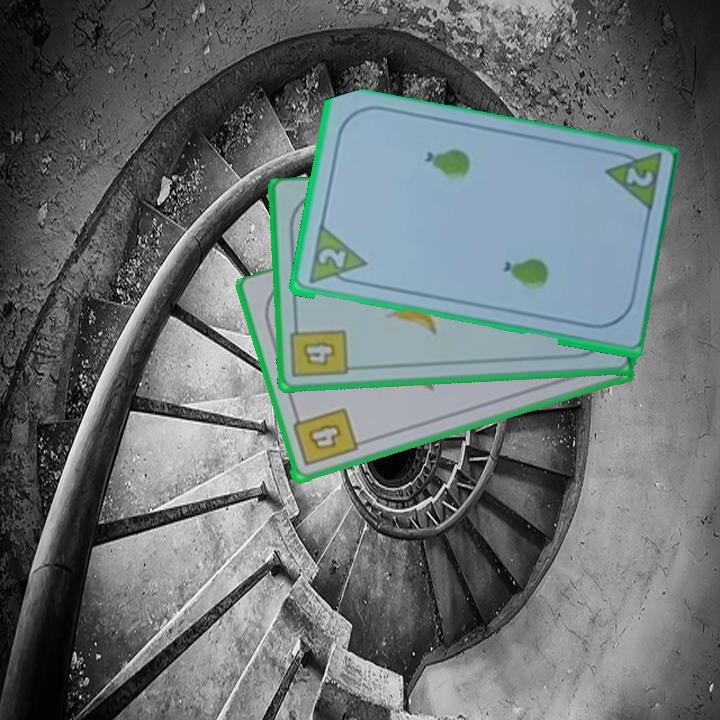2p: (621, 164, 656, 191), (314, 245, 348, 272)
4b: (288, 405, 360, 470), (287, 318, 351, 381)
